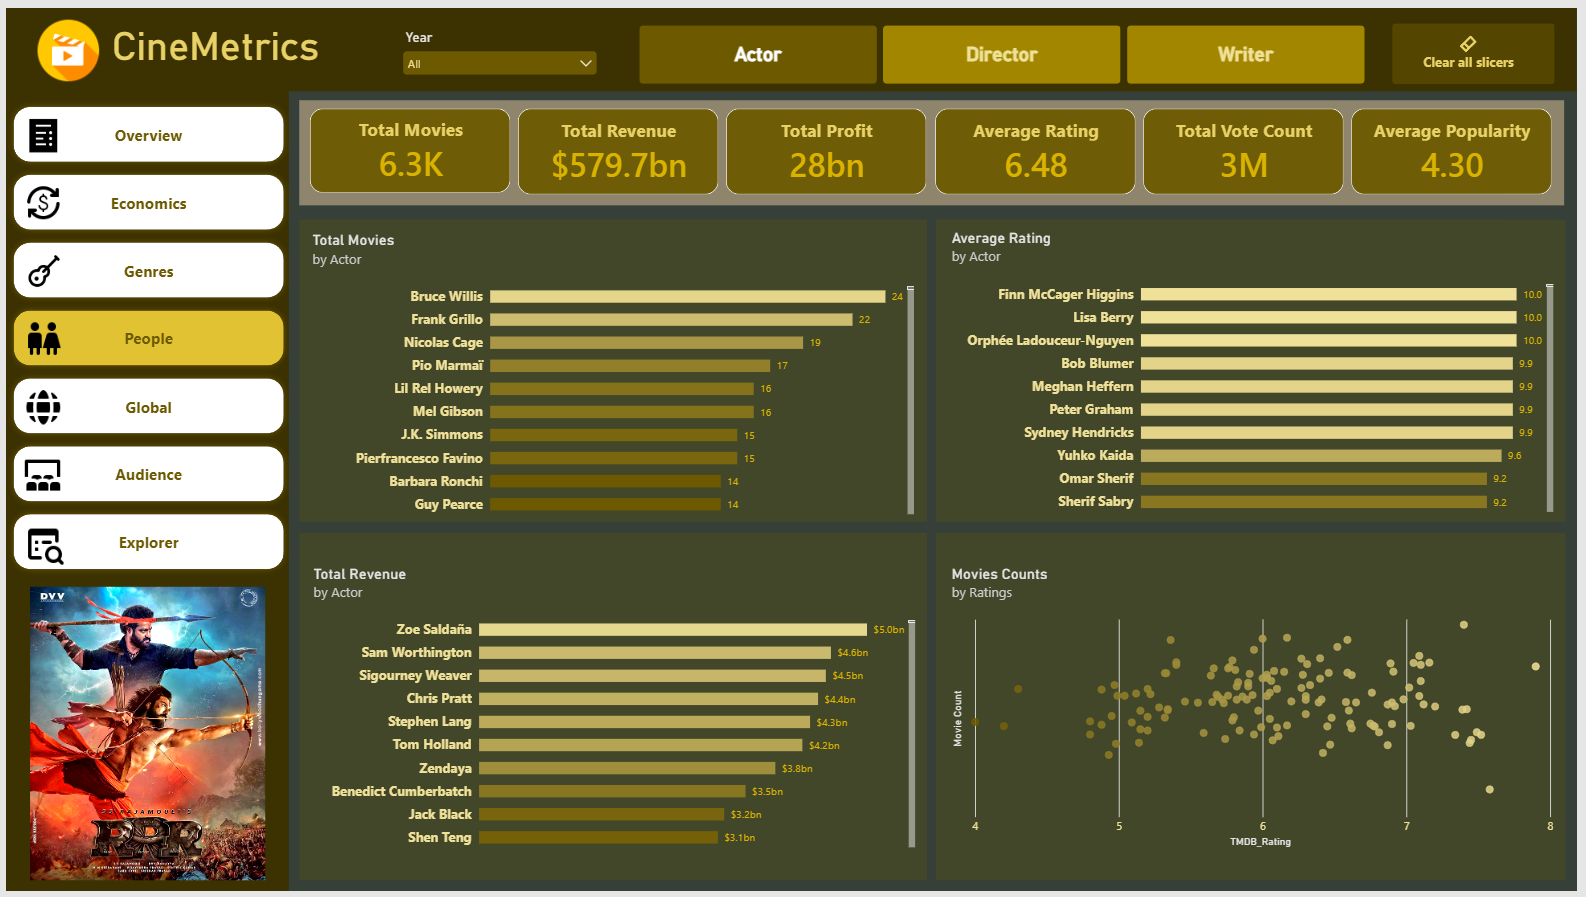

The dashboard page shown, as its layout file describes it:
{"tool":"powerbi","page":{"name":"People","canvas":[1920,1080],"ordinal":4},"visuals":[{"type":"shape","box":[0,0,1919.7,101.7],"z":0,"group":"g1"},{"type":"group","id":"g1","title":"header","box":[0,0,1919.7,101.7],"z":0},{"type":"shape","box":[0,101.2,346,978.8],"z":0,"group":"g2"},{"type":"shape","box":[359.3,112.6,1546,128.7],"z":0,"group":"g3"},{"type":"textbox","title":"CineMetrics","box":[130.3,19.1,274.9,62],"z":1000,"group":"g1"},{"type":"group","id":"g2","title":"side panel","box":[0,101.2,347.9,978.8],"z":1000},{"type":"pageNavigator","box":[1.9,112.7,346,585],"z":1000,"group":"g2"},{"type":"cardVisual","fields":{"Data":["measure_KPI.Total Movies"]},"box":[372.2,122.8,245.6,103.8],"z":1000,"group":"g3"},{"type":"image","box":[38.3,13.8,75,75],"z":2000,"group":"g1"},{"type":"group","id":"g3","title":"kpis","box":[359.3,112.6,1546,128.7],"z":2000},{"type":"cardVisual","fields":{"Data":["measure_KPI.Total Profit"]},"box":[881.3,122.8,245.9,105.3],"z":2000,"group":"g3"},{"type":"image","box":[11.5,707.2,323.1,359.4],"z":2000,"group":"g2"},{"type":"actionButton","box":[1693.7,19.1,198.8,74.6],"z":3000,"group":"g1"},{"type":"cardVisual","fields":{"Data":["measure_KPI.Average Popularity"]},"box":[1645.4,122.8,245.9,105.3],"z":3000,"group":"g3"},{"type":"image","box":[15,629.1,60.1,50.1],"z":3000,"group":"g2"},{"type":"slicer","fields":{"Values":["dim dim_date.MonthName"]},"box":[1382,13.3,278.7,86.8],"z":4000,"group":"g1"},{"type":"cardVisual","fields":{"Data":["measure_KPI.Total Vote Count"]},"box":[1390.7,122.8,245.9,105.3],"z":4000,"group":"g3"},{"type":"image","box":[15,545.9,60.1,50.1],"z":4000,"group":"g2"},{"type":"slicer","fields":{"Values":["dim dim_date.MonthName"]},"box":[1076,13.3,278.7,86.8],"z":5000,"group":"g1"},{"type":"cardVisual","fields":{"Data":["measure_KPI.Average Rating"]},"box":[1136,122.8,245.9,105.3],"z":5000,"group":"g3"},{"type":"image","box":[15,462.8,60.1,50.1],"z":5000,"group":"g2"},{"type":"slicer","fields":{"Values":["dim dim_date.MonthName"]},"box":[770,13.3,278.7,86.8],"z":6000,"group":"g1"},{"type":"cardVisual","fields":{"Data":["measure_KPI.Total Revenue"]},"box":[626.7,122.8,245.9,105.3],"z":6000,"group":"g3"},{"type":"image","box":[15,379.6,60.1,50.1],"z":6000,"group":"g2"},{"type":"slicer","fields":{"Values":["dim dim_date.Year"]},"box":[464,13.3,278.7,86.8],"z":7000,"group":"g1"},{"type":"image","box":[15,296.4,60.1,50.1],"z":7000,"group":"g2"},{"type":"image","box":[15,213.2,60.1,50.1],"z":8000,"group":"g2"},{"type":"image","box":[15,130.1,60.1,50.1],"z":9000,"group":"g2"}]}

Visuals, with their boxes in screenshot pixels (x1, y1, x2, y2), scaled from the page's 1920x1080 canvas onto the 1586x897 screenshot:
shape: 0:0:1585:84
"header" group: 0:0:1585:84
shape: 0:84:286:896
shape: 297:94:1574:200
"CineMetrics" textbox: 108:16:335:67
"side panel" group: 0:84:287:896
pageNavigator: 2:94:287:579
cardVisual - measure_KPI.Total Movies: 307:102:510:188
image: 32:11:94:74
"kpis" group: 297:94:1574:200
cardVisual - measure_KPI.Total Profit: 728:102:931:189
image: 9:587:276:886
actionButton: 1399:16:1563:78
cardVisual - measure_KPI.Average Popularity: 1359:102:1562:189
image: 12:523:62:564
slicer - dim dim_date.MonthName: 1142:11:1372:83
cardVisual - measure_KPI.Total Vote Count: 1149:102:1352:189
image: 12:453:62:495
slicer - dim dim_date.MonthName: 889:11:1119:83
cardVisual - measure_KPI.Average Rating: 938:102:1142:189
image: 12:384:62:426
slicer - dim dim_date.MonthName: 636:11:866:83
cardVisual - measure_KPI.Total Revenue: 518:102:721:189
image: 12:315:62:357
slicer - dim dim_date.Year: 383:11:614:83
image: 12:246:62:288
image: 12:177:62:219
image: 12:108:62:150
